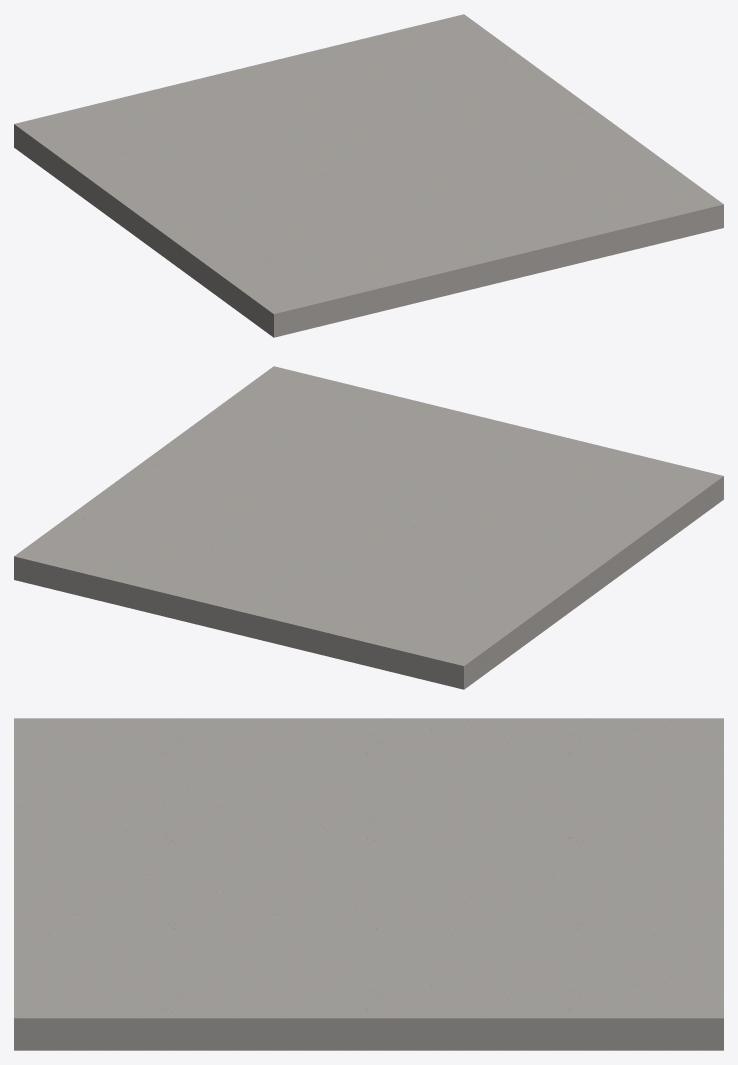
The model's file is Ceiling_4x4.fbx.
3 views of the same model, one above another, from view 1: azimuth 30°, elevation 25°; view 2: azimuth 150°, elevation 25°; view 3: azimuth 270°, elevation 25° (orthographic). The views are drawn at different scales.
Visible parts, largest first — view 1: Ceiling_4x4; view 2: Ceiling_4x4; view 3: Ceiling_4x4.
Boxes of the visible parts, box(x1,y1,x2,y2) form: Ceiling_4x4: box(14, 14, 723, 337); Ceiling_4x4: box(14, 366, 723, 689); Ceiling_4x4: box(14, 718, 723, 1050).
Bounding box in the file's own units: 400 × 20 × 400.
